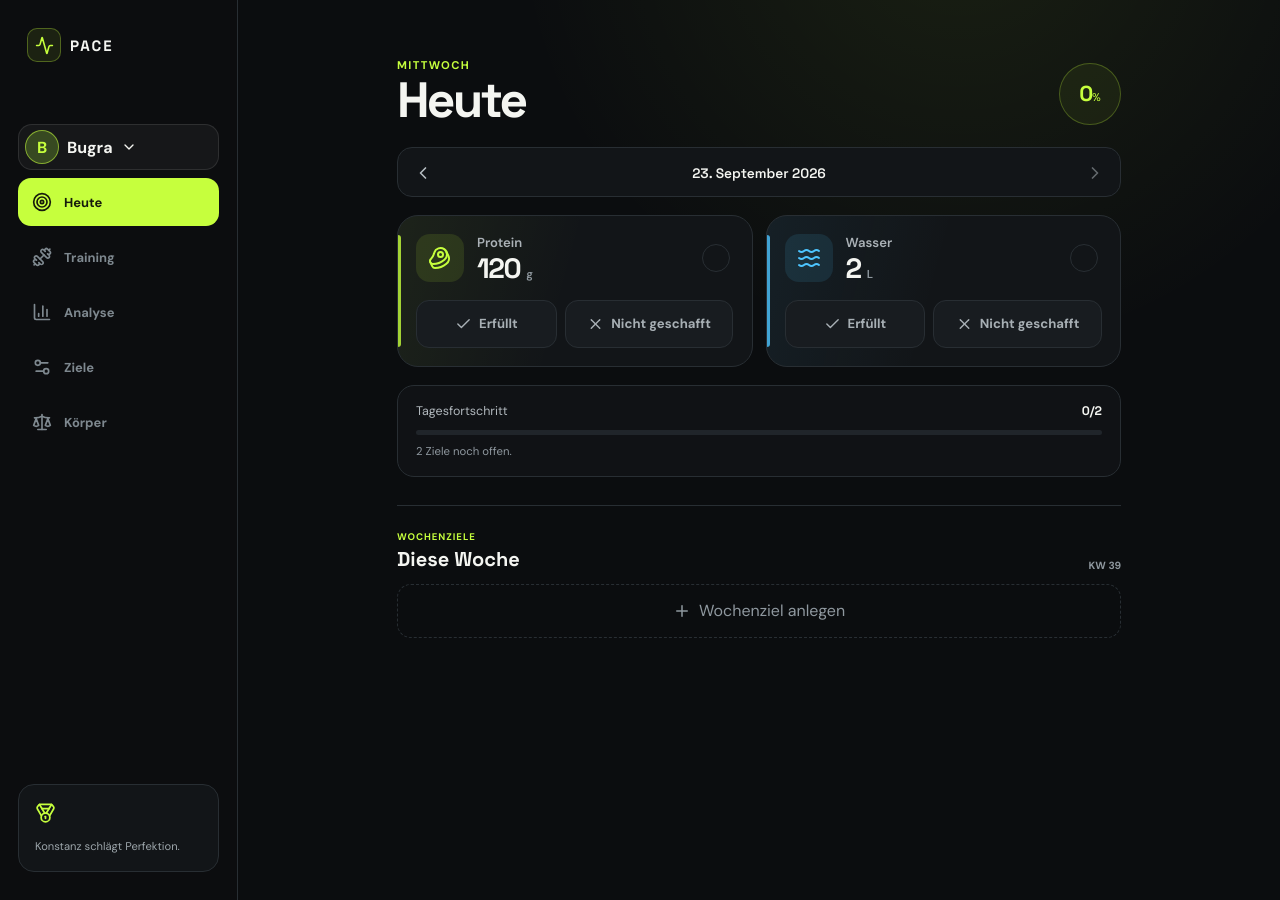
Scenario: Heute-Interaktion › behält einen aktiven Trainingsdraft über Tabwechsel hinweg
Click the button "Training" at x=118, y=257, box [18,233,219,281]
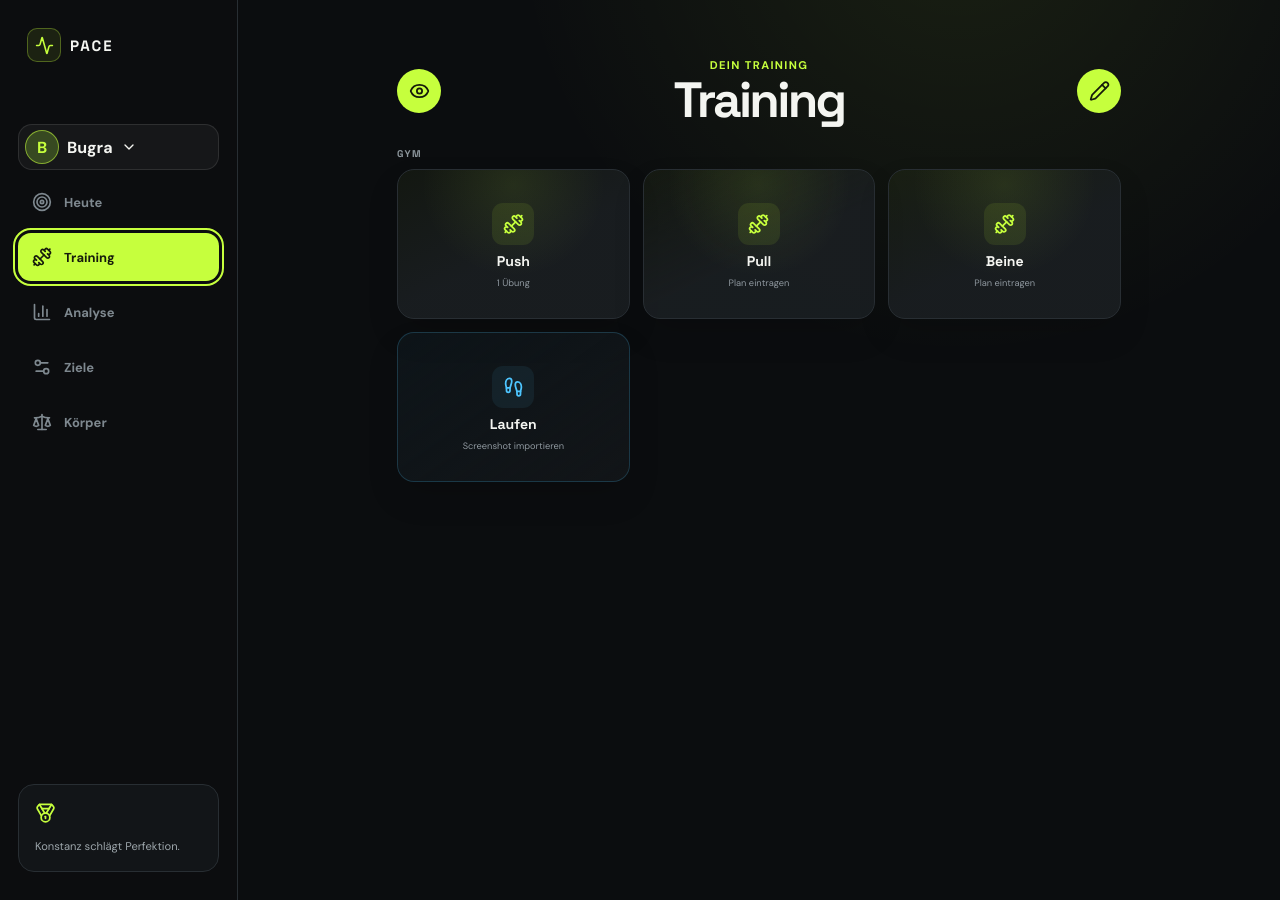
Click the button with aria-label "Push starten" at x=513, y=244, box [397,169,630,319]
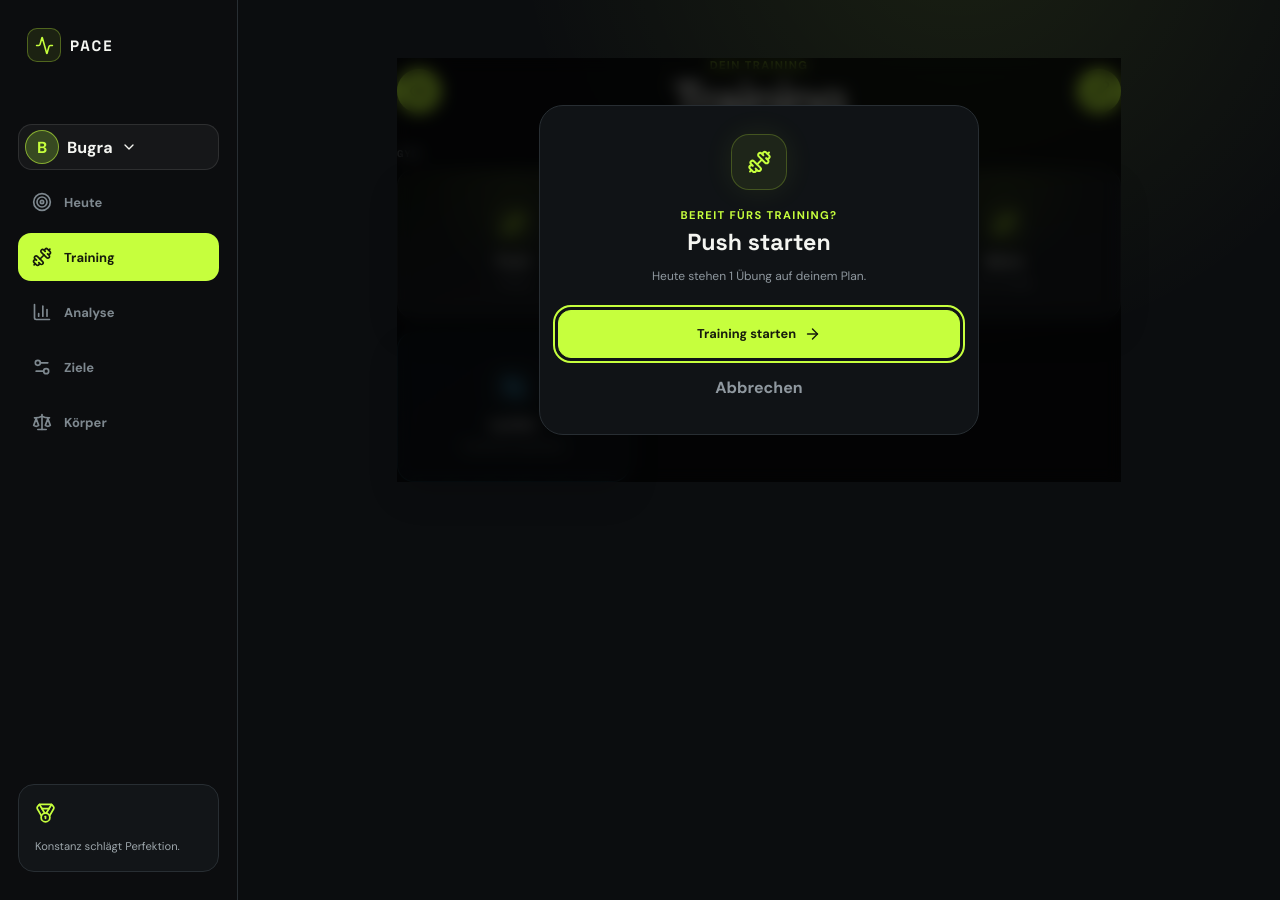
Click the button "Training starten" at x=759, y=334, box [558,310,960,358]
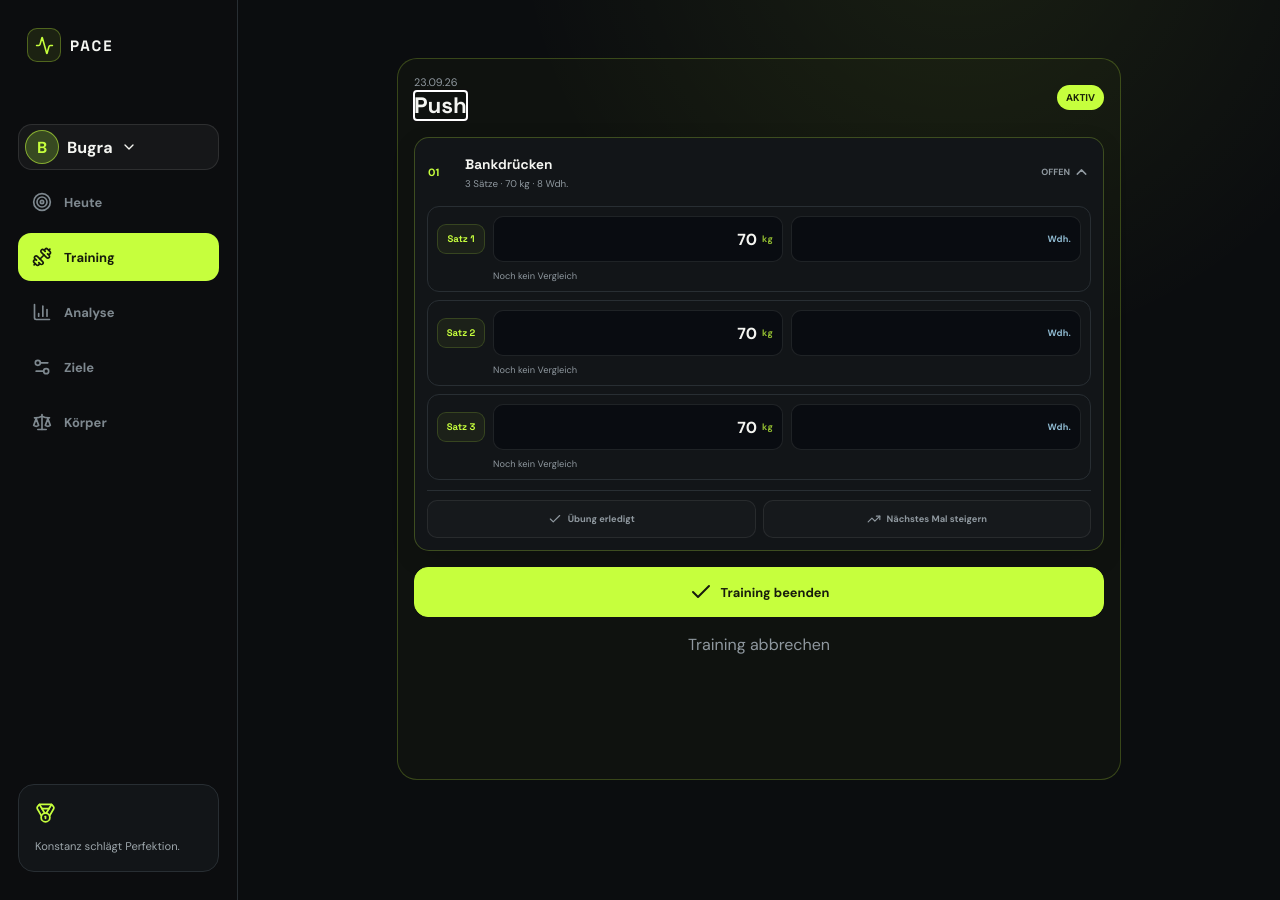
Clear the field named "Bankdrücken Satz 1 Gewicht" at x=630, y=239, box [503,217,757,261]
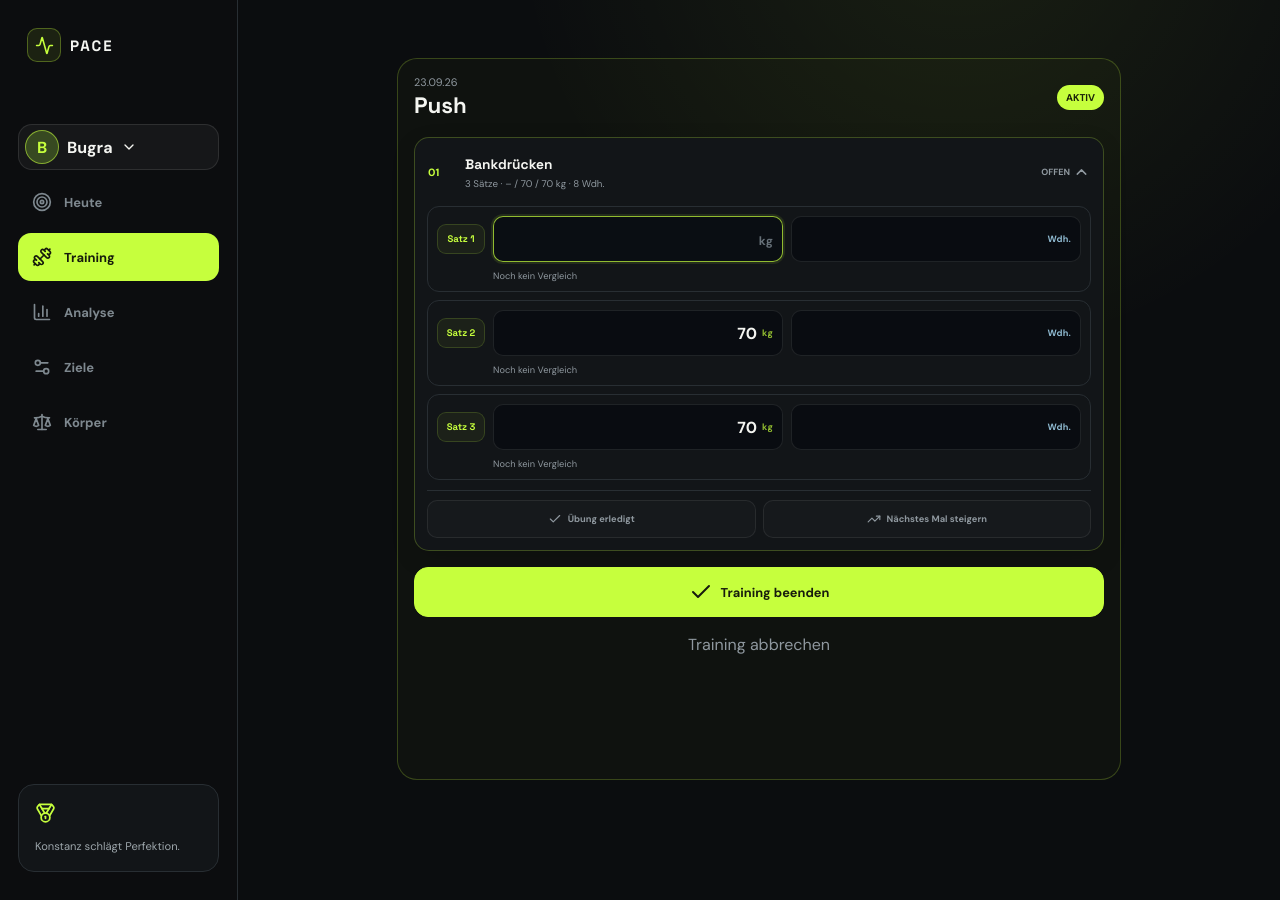
Type "72.5" into the field named "Bankdrücken Satz 1 Gewicht" at x=638, y=239, box [503,217,773,261]
Click the button "Heute" at x=118, y=202, box [18,178,219,226]
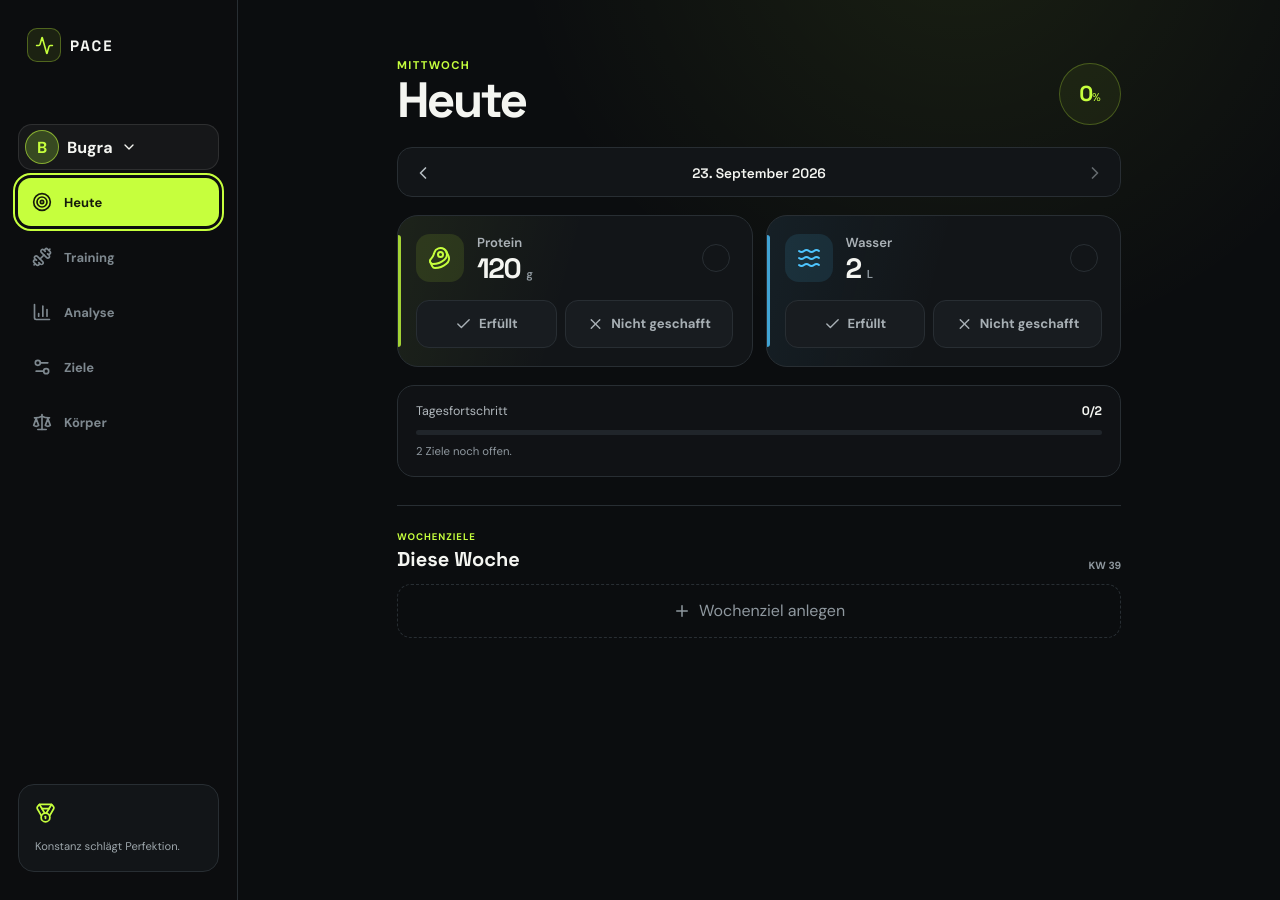
Click the button "Training" at x=118, y=257, box [18,233,219,281]
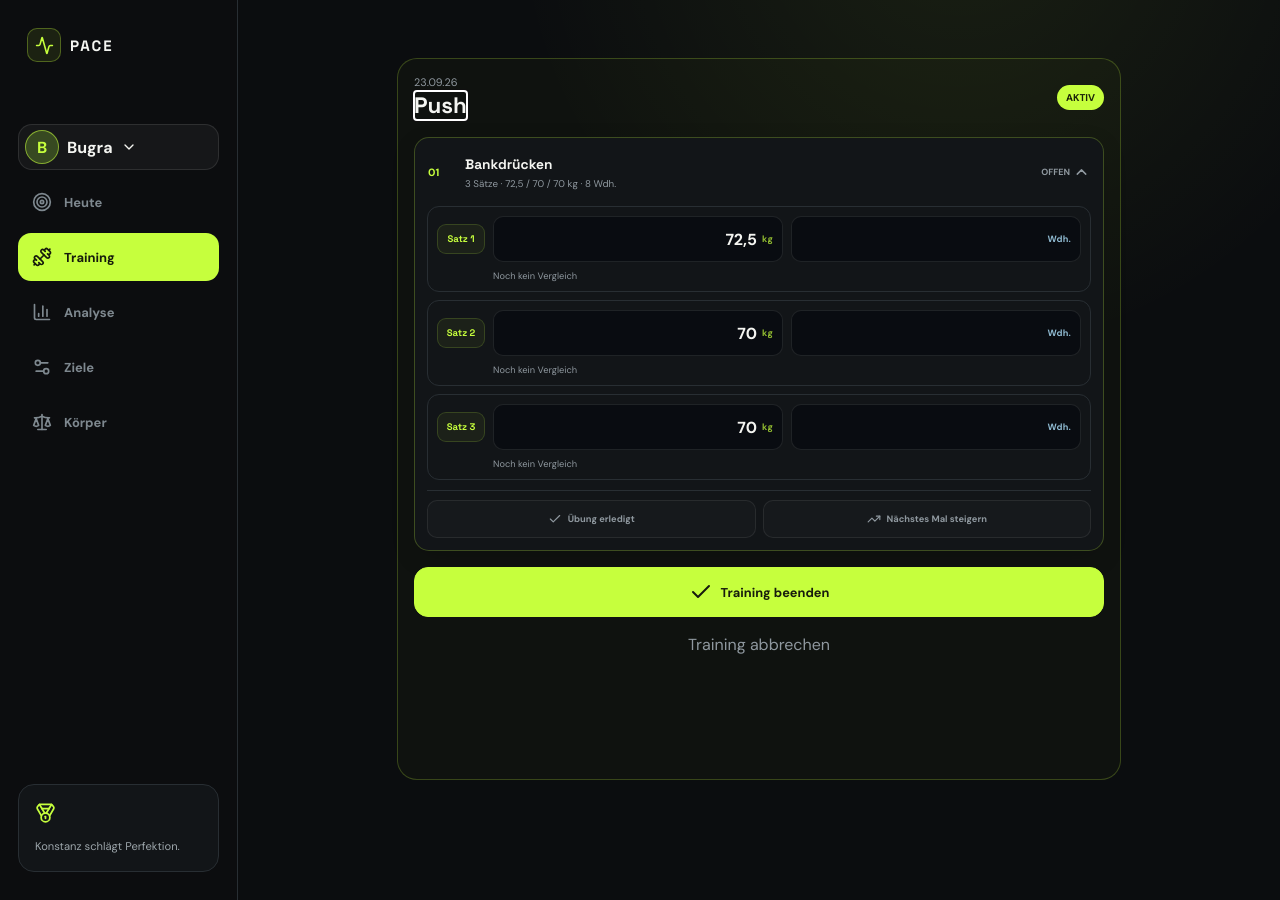
Now the field named "Bankdrücken Satz 1 Gewicht" holds "72,5", box [503,217,757,261]
